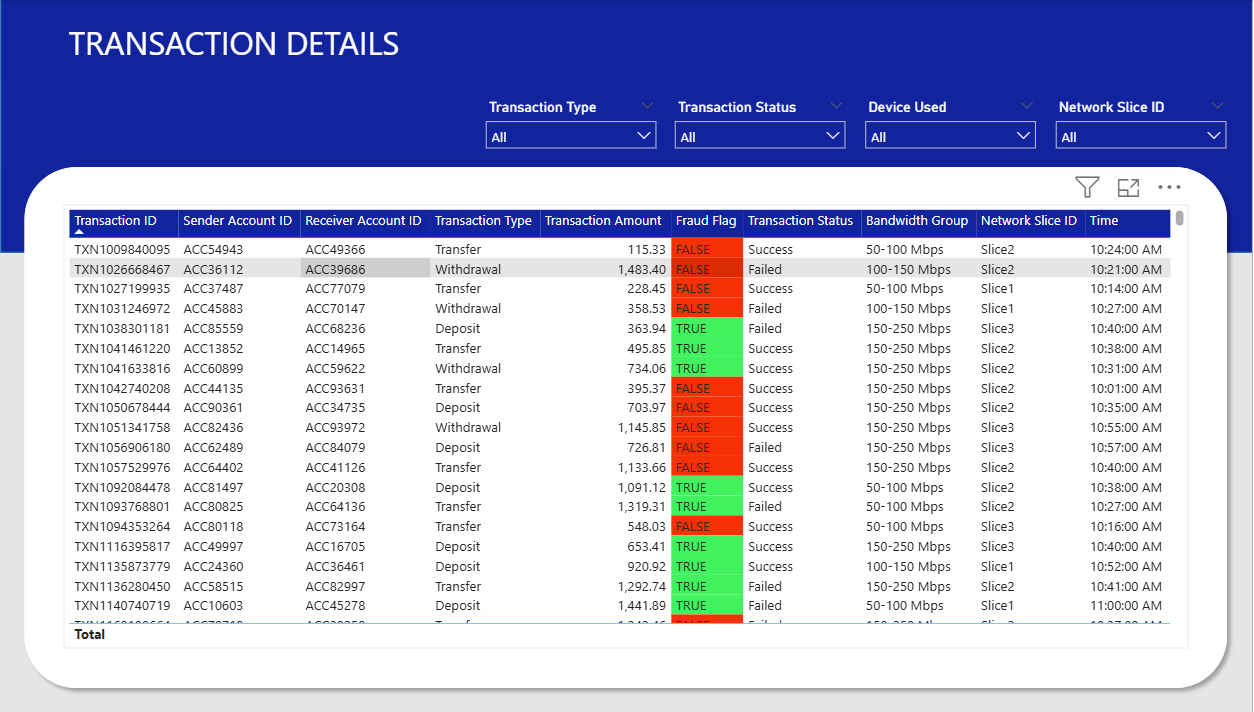

Layout of this report page (visuals, bound fields, positions):
{"tool":"powerbi","page":{"name":"Transaction Details","canvas":[1280,720],"ordinal":2},"visuals":[{"type":"shape","box":[16,0,1264,256],"z":0},{"type":"shape","box":[32,160,1232,544],"z":2000},{"type":"textbox","box":[80,16,448,64],"z":8000},{"type":"tableEx","fields":{"Values":["bank transaction_data.Transaction ID","bank transaction_data.Sender Account ID","bank transaction_data.Receiver Account ID","bank transaction_data.Transaction Type","bank transaction_data.Transaction Amount","bank transaction_data.Fraud Flag","bank transaction_data.Transaction Status","bank transaction_data.Bandwidth Group","bank transaction_data.Network Slice ID","bank transaction_data.Time"]},"box":[80,208,1136,448],"z":8001},{"type":"slicer","fields":{"Values":["bank transaction_data.Transaction Type"]},"box":[496,96,192,64],"z":8002},{"type":"slicer","fields":{"Values":["bank transaction_data.Transaction Status"]},"box":[688,96,192,64],"z":8003},{"type":"slicer","fields":{"Values":["bank transaction_data.Device Used"]},"box":[880,96,192,64],"z":8004},{"type":"slicer","fields":{"Values":["bank transaction_data.Network Slice ID"]},"box":[1072,96,192,64],"z":8005}]}

Visuals, with their boxes in screenshot pixels (x1, y1, x2, y2), scaled from the page's 1280x720 canvas onto the 1254x712 screenshot:
shape: <bbox>16, 0, 1253, 253</bbox>
shape: <bbox>31, 158, 1238, 696</bbox>
textbox: <bbox>78, 16, 517, 79</bbox>
tableEx - bank transaction_data.Transaction ID x bank transaction_data.Sender Account ID: <bbox>78, 206, 1191, 649</bbox>
slicer - bank transaction_data.Transaction Type: <bbox>486, 95, 674, 158</bbox>
slicer - bank transaction_data.Transaction Status: <bbox>674, 95, 862, 158</bbox>
slicer - bank transaction_data.Device Used: <bbox>862, 95, 1050, 158</bbox>
slicer - bank transaction_data.Network Slice ID: <bbox>1050, 95, 1238, 158</bbox>
